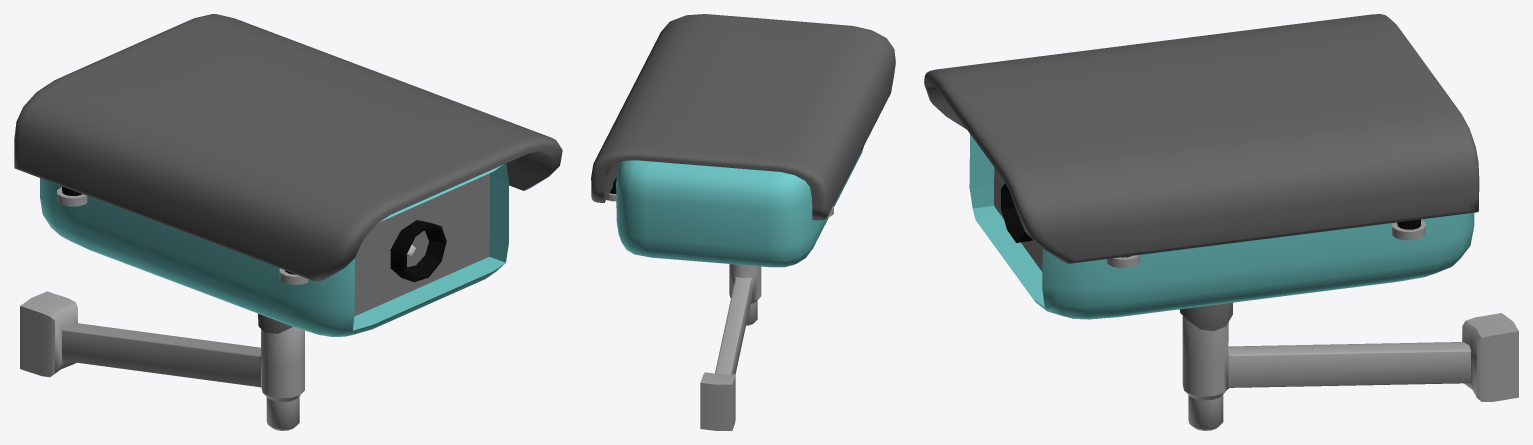
Rendered from test_anim_cam.fbx.
3 views of the same model, side by side, from view 1: azimuth 30°, elevation 25°; view 2: azimuth 150°, elevation 25°; view 3: azimuth 270°, elevation 25° (orthographic). The views are drawn at different scales.
Parts seen in each view (by area): view 1: cam_2_triangle (×5); view 2: cam_2_triangle (×3); view 3: cam_2_triangle (×6).
Part boxes in pixels (left/top/right/bottom): cam_2_triangle (×5): left=14, top=14, right=562, bottom=430; cam_2_triangle (×3): left=591, top=14, right=895, bottom=430; cam_2_triangle (×6): left=924, top=14, right=1518, bottom=430.
Bounding box in the file's own units: 8.97 × 7.43 × 11.34.
